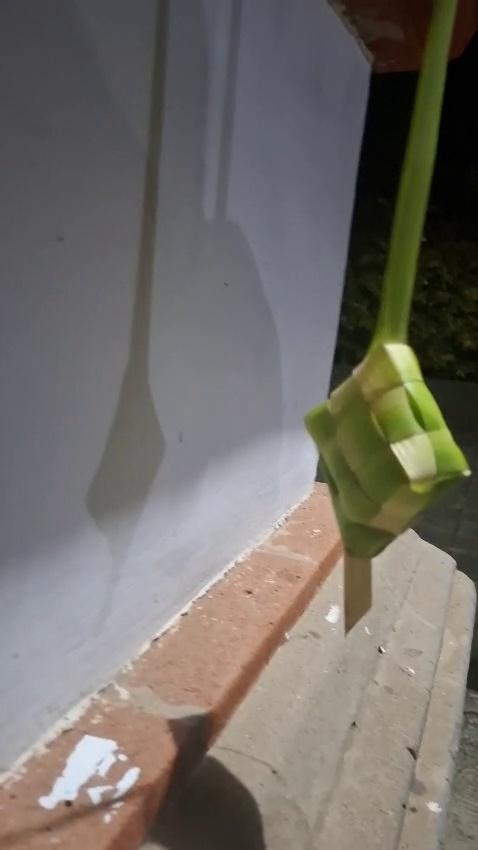Tipat Nasi: (311, 330, 472, 636)
